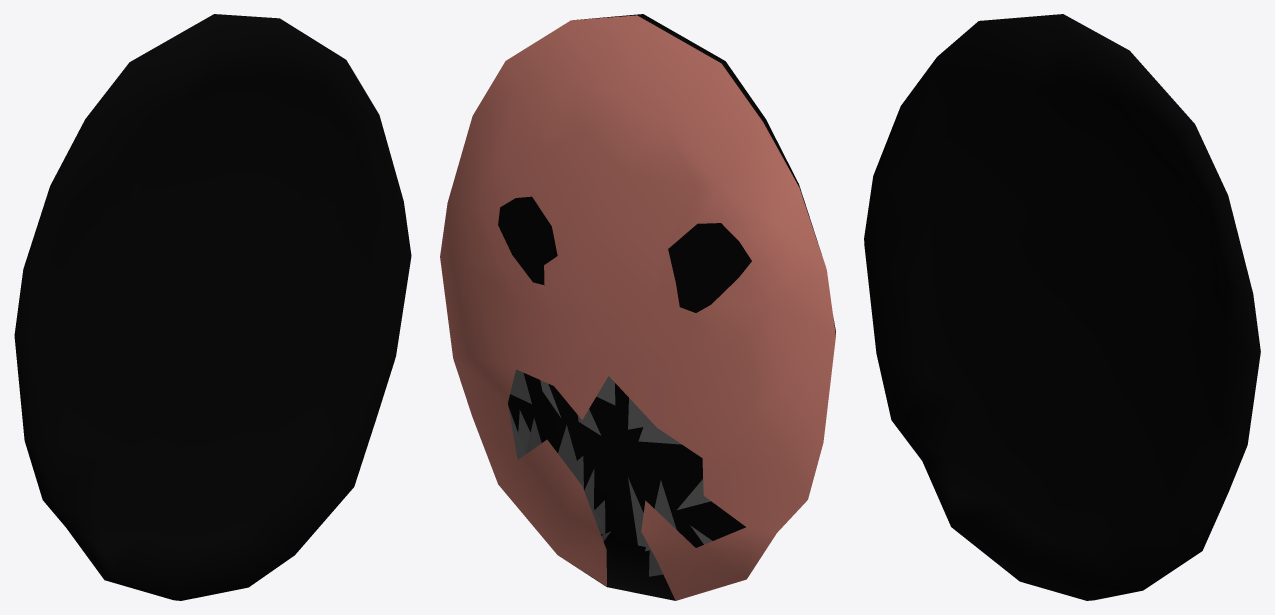
The model's file is Mask_04.fbx.
3 renders of one model, left to right at view 1: azimuth 30°, elevation 25°; view 2: azimuth 150°, elevation 25°; view 3: azimuth 330°, elevation 25°, orthographic.
Parts seen in each view (by area): view 1: Masks_04; view 2: Masks_04; view 3: Masks_04.
Boxes of the visible parts, <box> form: Masks_04: <box>14,14,411,600</box>; Masks_04: <box>440,14,835,600</box>; Masks_04: <box>864,14,1260,600</box>.
Size of the model in its own units: 35.57 by 49.67 by 3.62.
